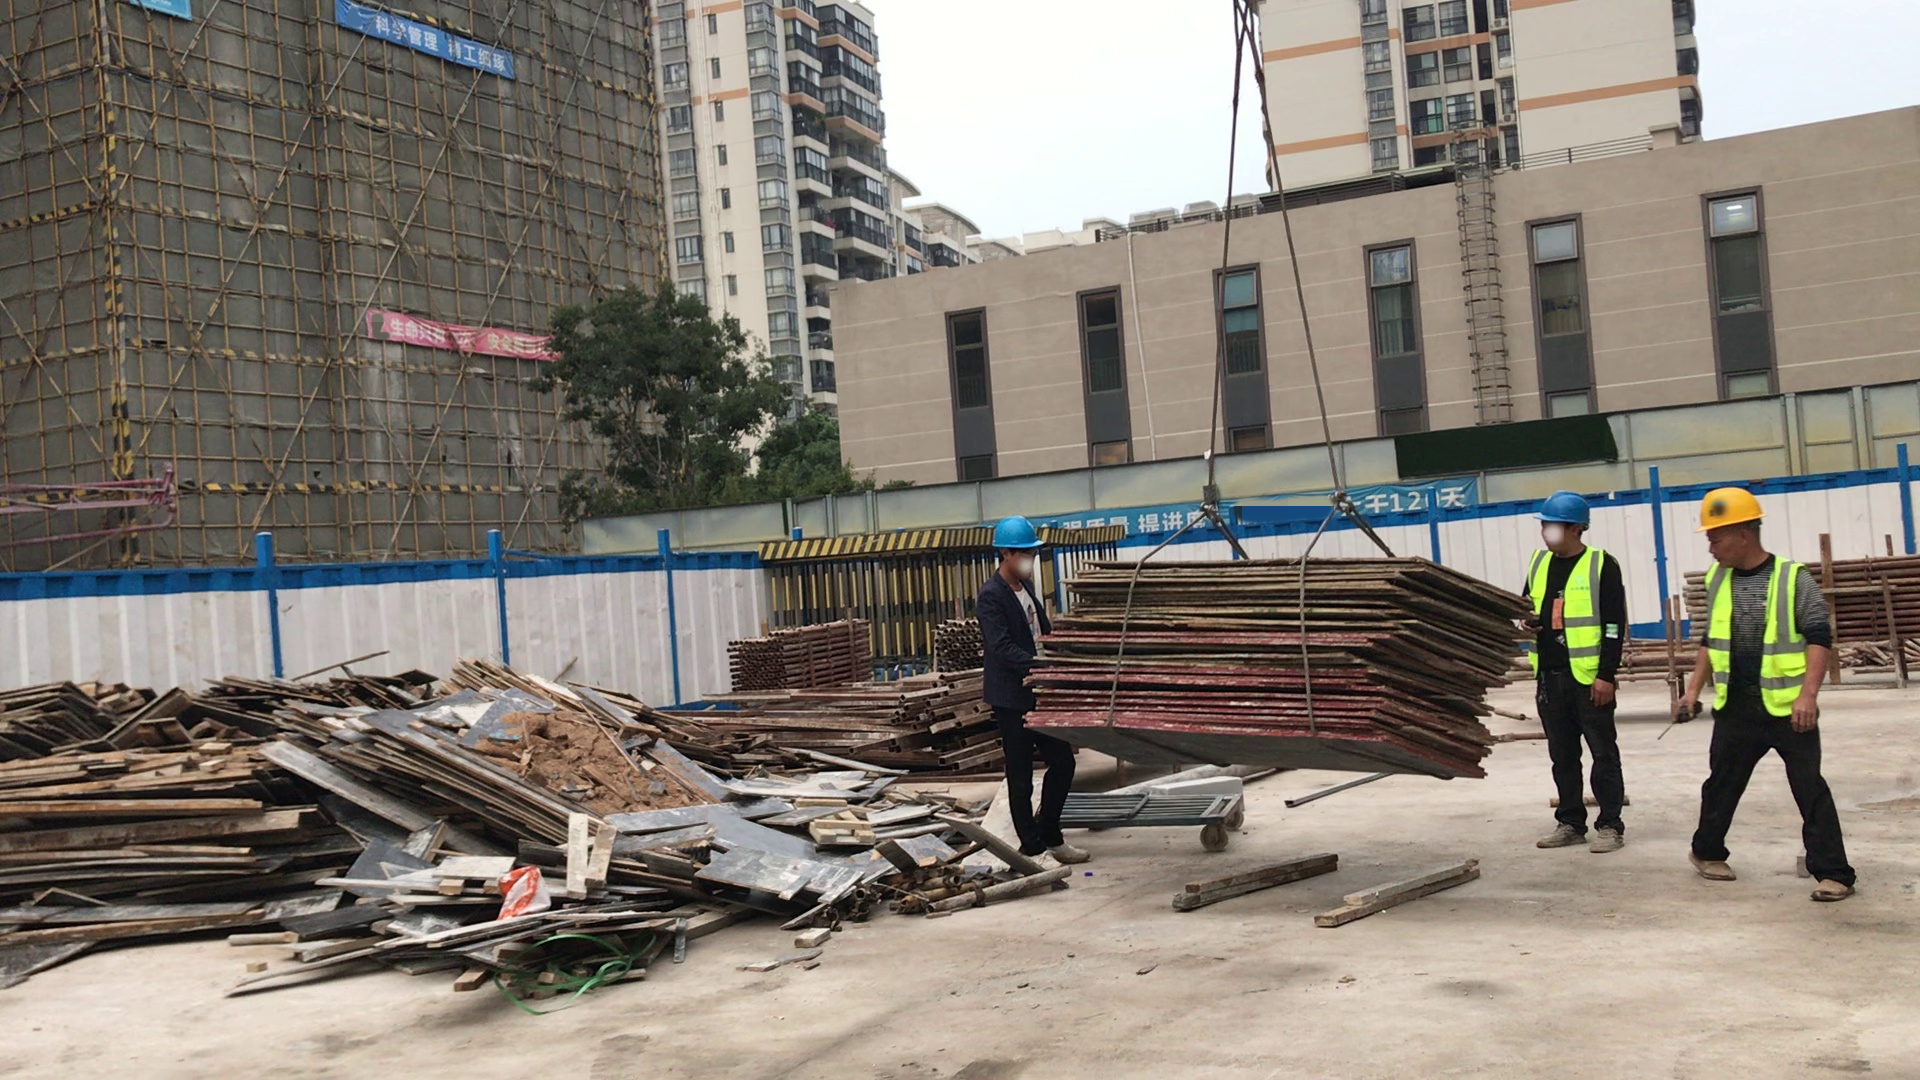board: (1024, 557, 1533, 786)
helmet: (1697, 488, 1766, 528), (1535, 491, 1593, 529), (992, 515, 1043, 551)
person: (1681, 489, 1866, 905), (1514, 490, 1641, 854), (973, 515, 1088, 879)
scaffold: (726, 616, 873, 690), (1814, 555, 1920, 637), (935, 622, 981, 676)
slogan: (1076, 480, 1477, 532), (363, 306, 558, 356), (380, 14, 517, 73)
vest: (1703, 555, 1806, 719), (1529, 548, 1603, 685)
